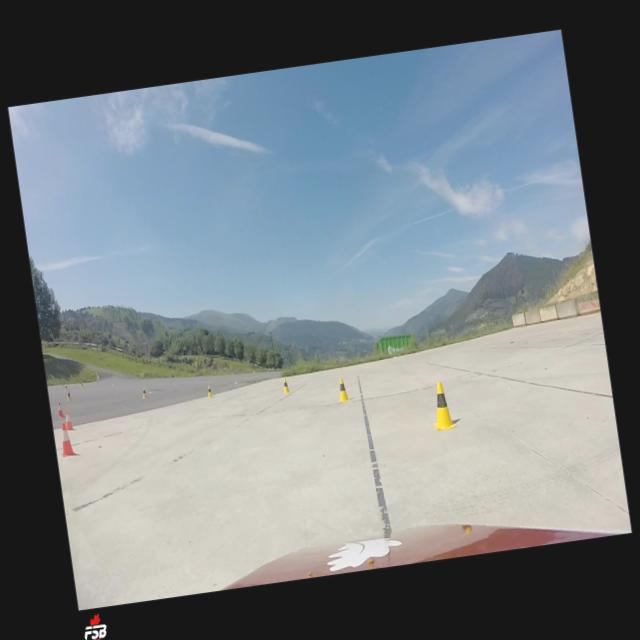orange_cone: (56, 420, 76, 458), (64, 409, 76, 431), (56, 401, 66, 418)
yellow_cone: (428, 381, 457, 432), (336, 377, 350, 402), (282, 378, 290, 394), (206, 385, 213, 398), (141, 387, 148, 399), (66, 391, 72, 402), (81, 382, 85, 388)
